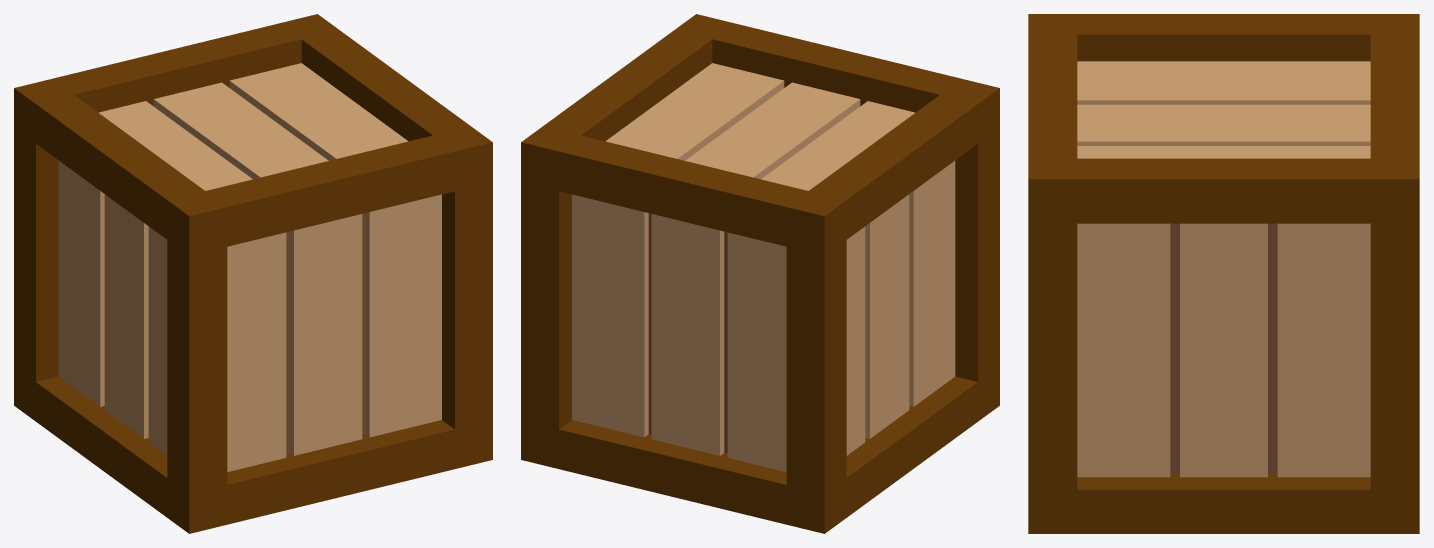
The model's file is small_crate.fbx.
The picture shows the model from 3 angles, left to right: view 1: azimuth 30°, elevation 25°; view 2: azimuth 150°, elevation 25°; view 3: azimuth 270°, elevation 25°; orthographic projection. The views are drawn at different scales.
Visible parts, largest first — view 1: crate_edge, planks1, planks2, planks3, crate_inner; view 2: crate_edge, planks1, planks2, planks3, crate_inner; view 3: crate_edge, planks2, planks3, crate_inner.
Part boxes in pixels (left/top/right/bottom): crate_edge: left=14, top=14, right=492, bottom=533; planks1: left=227, top=194, right=441, bottom=471; planks2: left=58, top=161, right=167, bottom=455; planks3: left=99, top=63, right=408, bottom=190; crate_inner: left=286, top=213, right=365, bottom=453; crate_edge: left=521, top=14, right=999, bottom=533; planks1: left=572, top=194, right=786, bottom=471; planks2: left=846, top=161, right=955, bottom=455; planks3: left=605, top=63, right=914, bottom=190; crate_inner: left=648, top=213, right=727, bottom=453; crate_edge: left=1028, top=14, right=1419, bottom=533; planks2: left=1077, top=223, right=1370, bottom=477; planks3: left=1077, top=61, right=1370, bottom=158; crate_inner: left=1170, top=223, right=1277, bottom=472.
Size of the model in its own units: 100 by 100 by 100.
